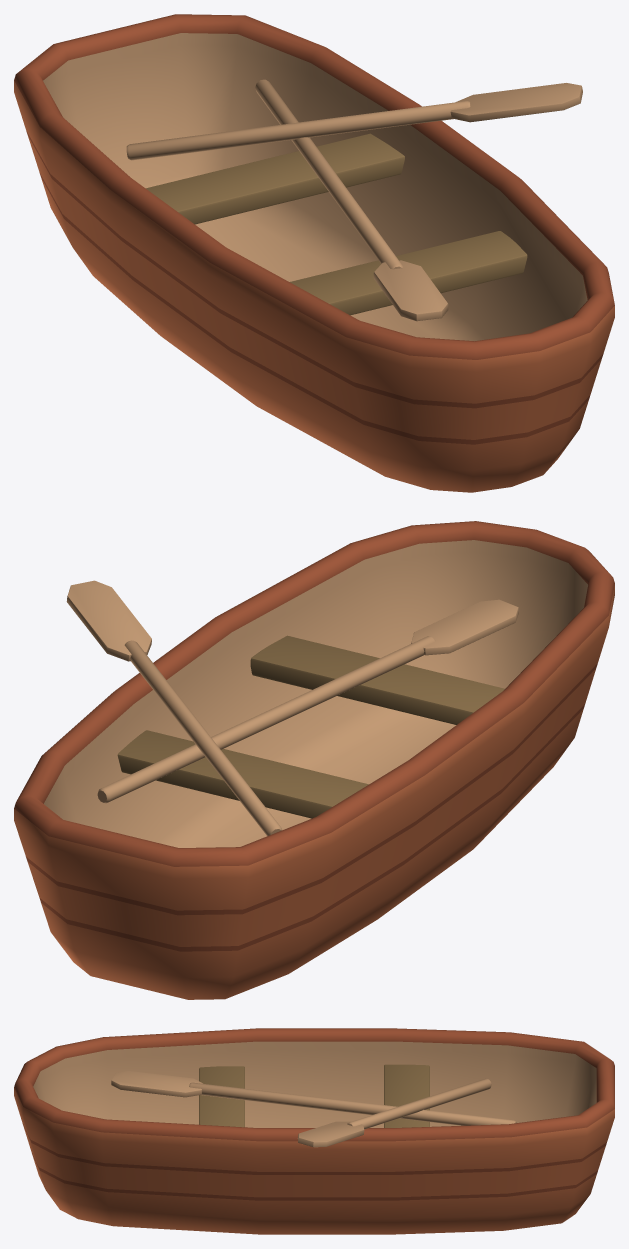
The model's file is boat.glb.
The picture shows the model from 3 angles, top to bottom: view 1: azimuth 30°, elevation 25°; view 2: azimuth 150°, elevation 25°; view 3: azimuth 270°, elevation 25°; orthographic projection. The views are drawn at different scales.
Visible parts, largest first — view 1: Hull, Seat, Oars; view 2: Hull, Seat, Oars; view 3: Hull, Oars, Seat.
Boxes of the visible parts, x1,y1,x2,y2 form: Hull: (14, 14, 614, 492); Seat: (146, 133, 527, 315); Oars: (126, 79, 582, 321); Hull: (14, 521, 614, 999); Seat: (117, 635, 504, 818); Oars: (66, 580, 518, 835); Hull: (14, 1028, 614, 1234); Oars: (111, 1071, 516, 1147); Seat: (199, 1064, 429, 1127).
Bounding box in the file's own units: 1.45 × 0.7165 × 2.6.
